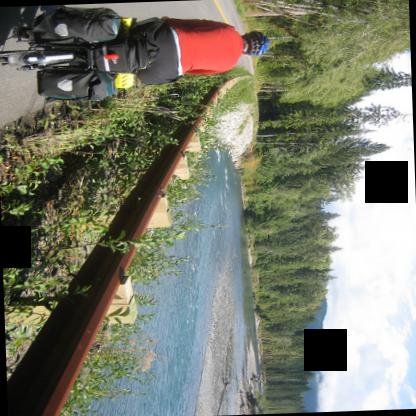backpack: (31, 7, 120, 44), (39, 70, 117, 103)
